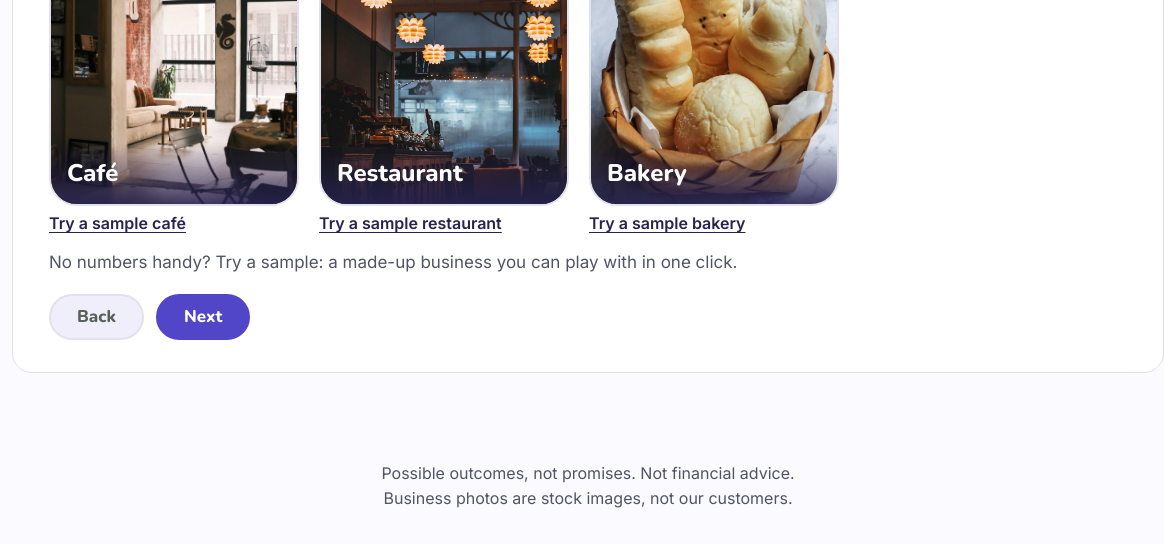
start screen: sample business › shows a friendly error and stays put when it fails
(page scrolled)
Click the button "Try a sample café": {"x": 117, "y": 224} [49,214,186,233]
(page scrolled)
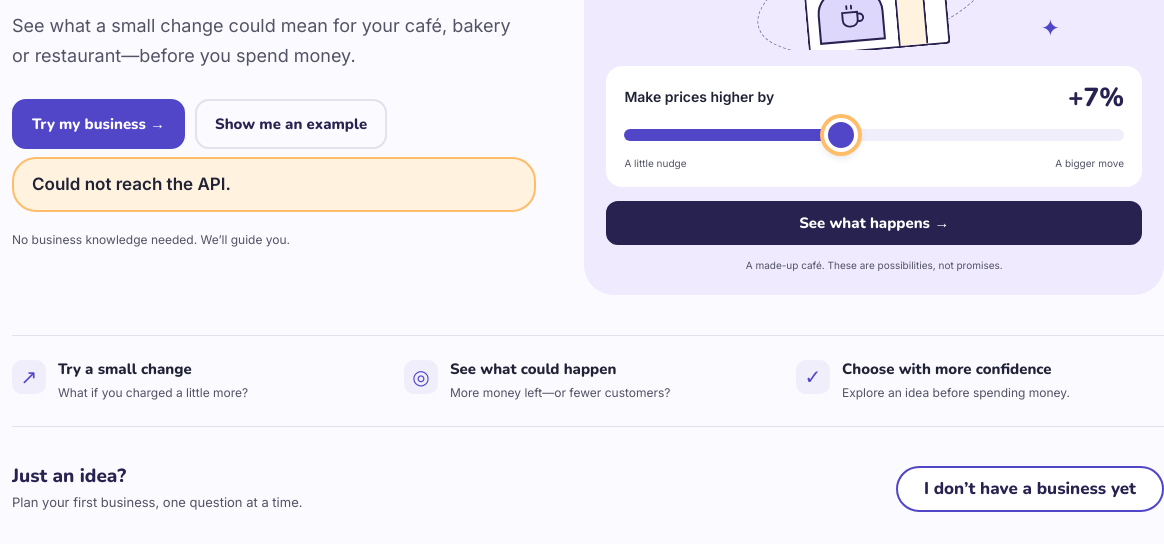
Result: the message shows "Could not reach the API" at [32,174,231,194]
